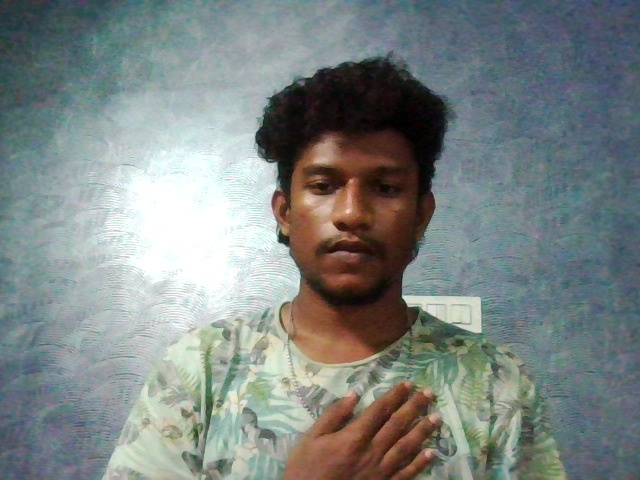please: (252, 374, 466, 480)
